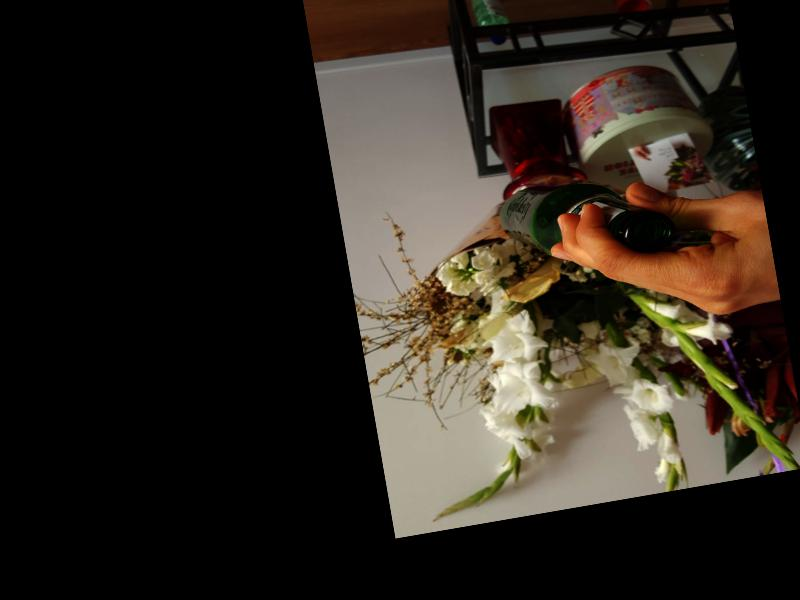Beer: (494, 163, 677, 275)
